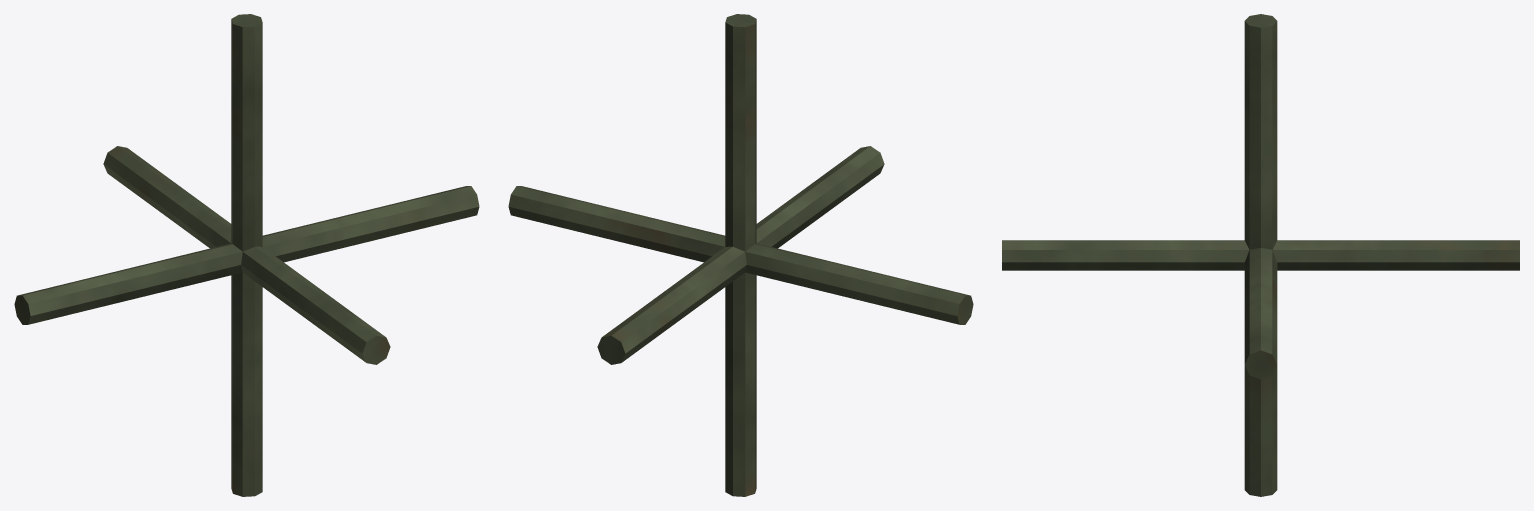
Rendered from barrier_hedgehog.glb.
3 views of the same model, side by side, from view 1: azimuth 30°, elevation 25°; view 2: azimuth 150°, elevation 25°; view 3: azimuth 270°, elevation 25° (orthographic).
Parts seen in each view (by area): view 1: barrier_hedgehog; view 2: barrier_hedgehog; view 3: barrier_hedgehog.
Boxes of the visible parts, x1=… form: barrier_hedgehog: x1=14, y1=14, x2=479, y2=496; barrier_hedgehog: x1=508, y1=14, x2=973, y2=496; barrier_hedgehog: x1=1002, y1=14, x2=1519, y2=496.
Bounding box in the file's own units: 1.6 × 1.6 × 1.6.
1 material, 1 textured.
